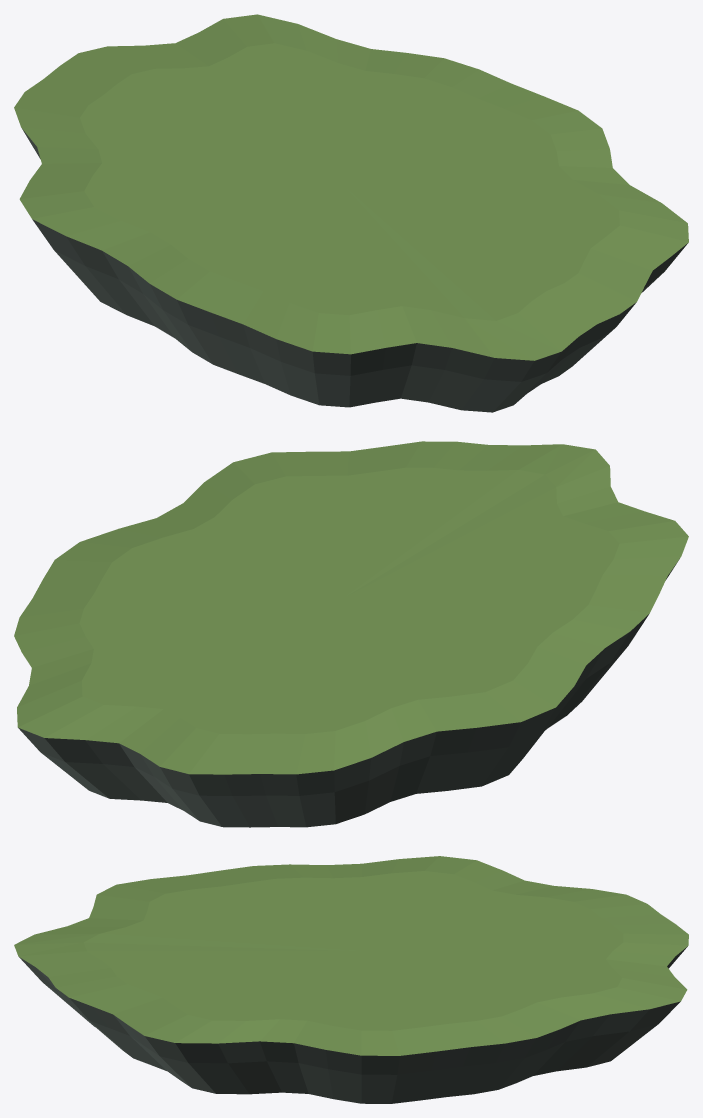
The model's file is Terrain_IronLowlands.glb.
3 views of the same model, one above another, from view 1: azimuth 30°, elevation 25°; view 2: azimuth 150°, elevation 25°; view 3: azimuth 270°, elevation 25° (orthographic). The views are drawn at different scales.
Visible parts, largest first — view 1: Terrain_IronLowlands_IronLowlands_ground_-1_4, Terrain_IronLowlands_IronLowlands_dark_-1_4; view 2: Terrain_IronLowlands_IronLowlands_ground_-1_4, Terrain_IronLowlands_IronLowlands_dark_-1_4; view 3: Terrain_IronLowlands_IronLowlands_ground_-1_4, Terrain_IronLowlands_IronLowlands_dark_-1_4.
Boxes of the visible parts, <box> form: Terrain_IronLowlands_IronLowlands_ground_-1_4: <box>14,14,688,360</box>; Terrain_IronLowlands_IronLowlands_dark_-1_4: <box>22,129,687,412</box>; Terrain_IronLowlands_IronLowlands_ground_-1_4: <box>14,441,688,774</box>; Terrain_IronLowlands_IronLowlands_dark_-1_4: <box>18,559,679,827</box>; Terrain_IronLowlands_IronLowlands_ground_-1_4: <box>14,856,688,1055</box>; Terrain_IronLowlands_IronLowlands_dark_-1_4: <box>19,946,687,1103</box>.
Bounding box in the file's own units: 331 × 58 × 473.
